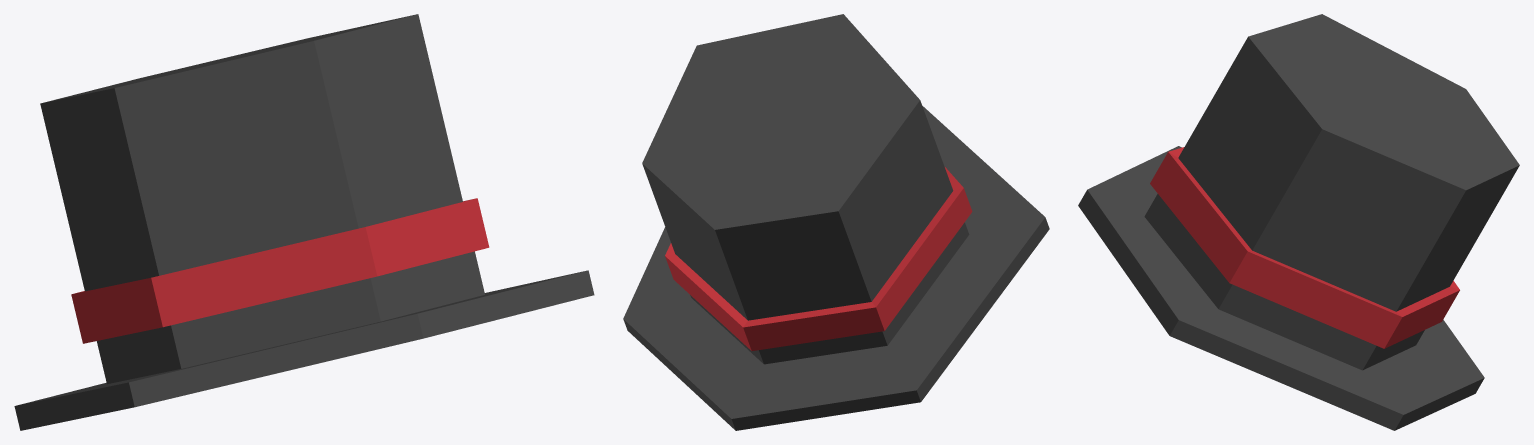
File: TopHat.fbx
The picture shows the model from 3 angles, left to right: view 1: azimuth 30°, elevation 25°; view 2: azimuth 150°, elevation 25°; view 3: azimuth 270°, elevation 25°; orthographic projection. The views are drawn at different scales.
Parts seen in each view (by area): view 1: TopHat; view 2: TopHat; view 3: TopHat.
Boxes of the visible parts, bbox=[...] form: TopHat: bbox=[14, 14, 594, 430]; TopHat: bbox=[623, 14, 1049, 430]; TopHat: bbox=[1078, 14, 1519, 430].
Size of the model in its own units: 25.46 by 24.34 by 27.29.
